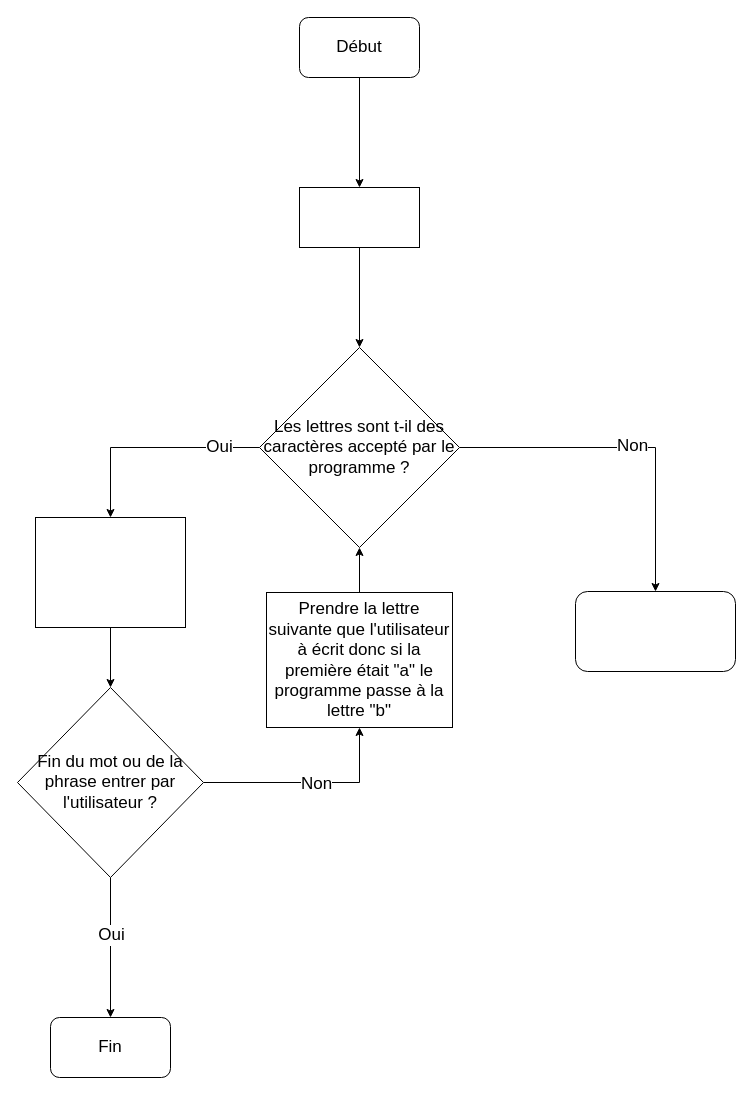
The diagram is 753 pixels wide and 1095 high, and some of its shapes have lost their labels. Here are the shapes that lost their labels. From the top down, the centre of each, then its label:
At pixel 359 217: "L'utilisateur entre un mot ou une phrase".
At pixel 110 572: "Prend la première lettre et l'affiche en morse dans le résultat".
At pixel 655 631: "Fin du programme avec message d'erreur".
